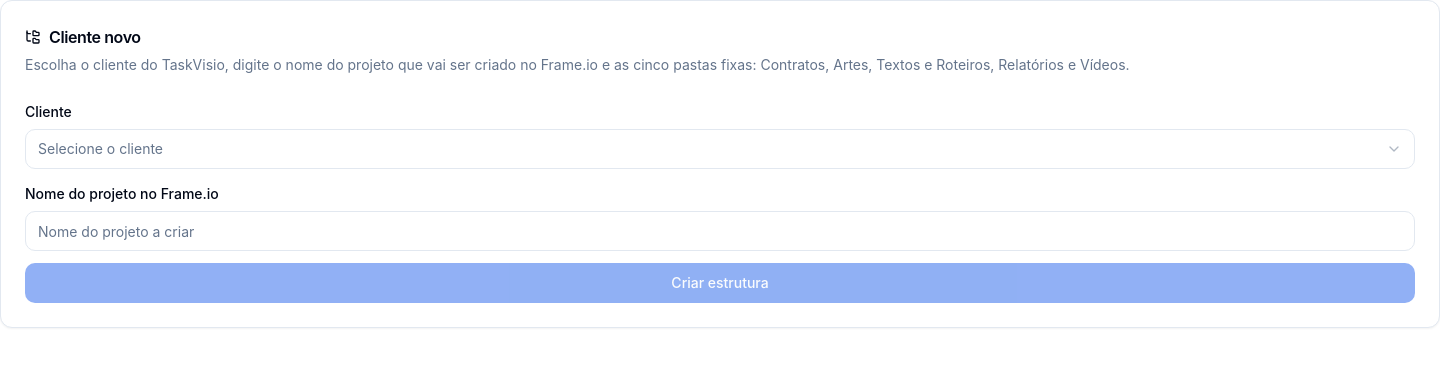
ClientStructureForm — prévia de correspondência › avisa quando o projeto já existe no Frame.io
The image size is (1440, 373).
Press the mouse on the dropdown labelled "cliente" at (101, 148), box [25, 129, 1415, 169]
Click the dropdown labelled "cliente".
click(101, 148)  # box [25, 129, 1415, 169]
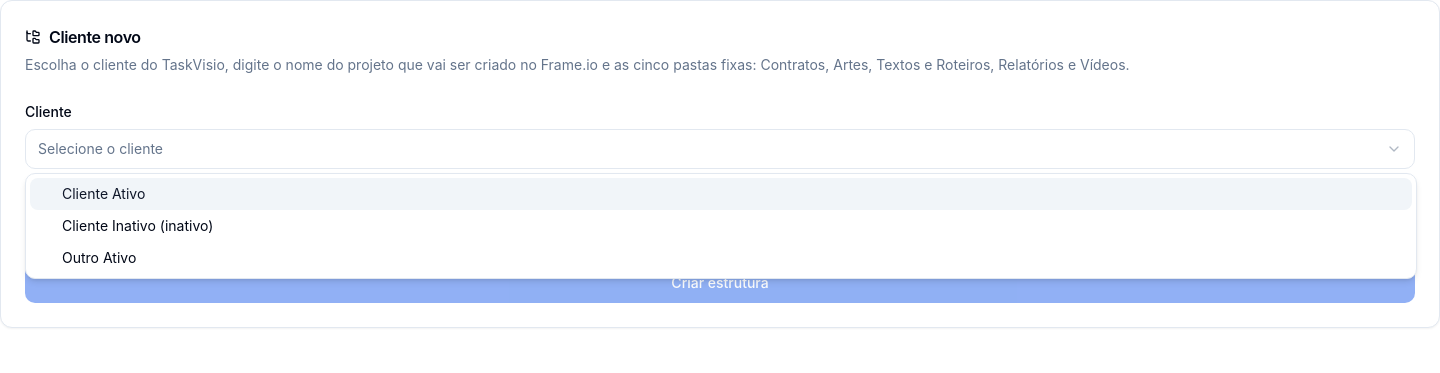
Click the option "Cliente Ativo".
click(104, 194)  # box [30, 178, 1412, 210]
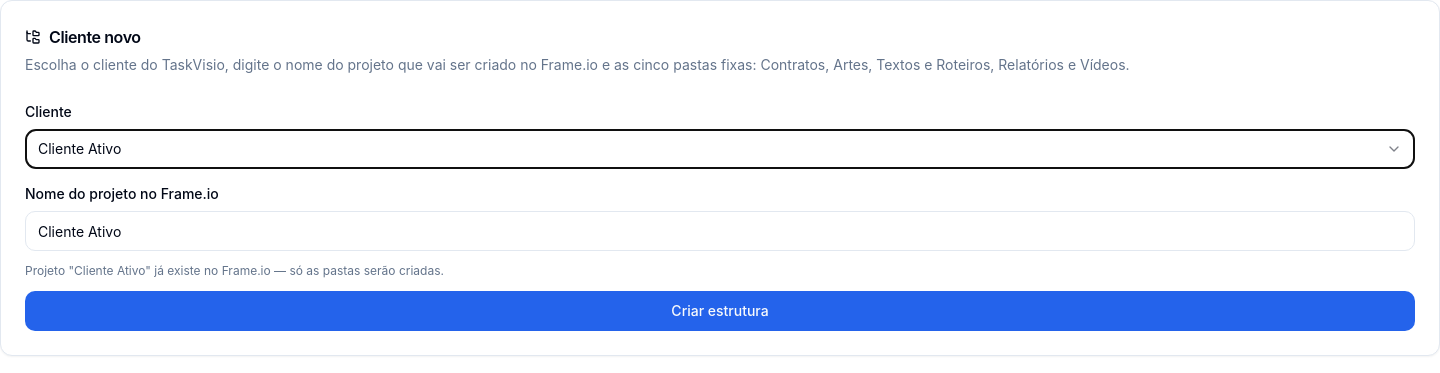
Expected: the text with test id "frameio-preview" shows "já existe no Frame.io — só as pastas serão criadas", [25, 263, 444, 278]
